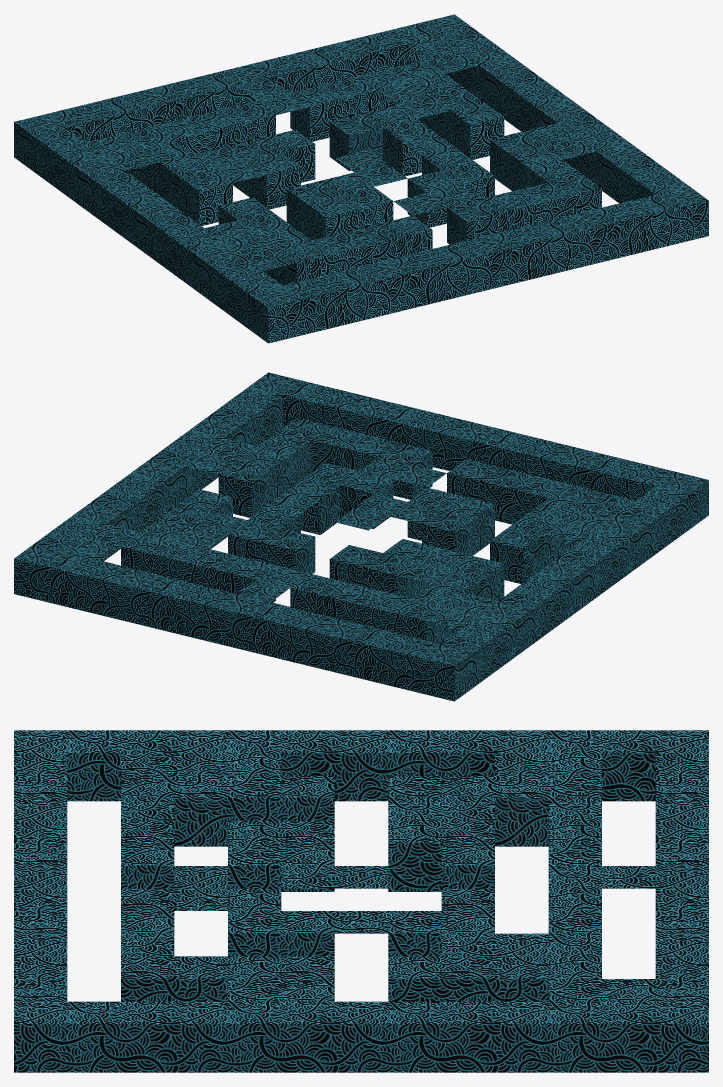
The model's file is FirstLevelPlatform.fbx.
3 views of the same model, one above another, from view 1: azimuth 30°, elevation 25°; view 2: azimuth 150°, elevation 25°; view 3: azimuth 270°, elevation 25° (orthographic). The views are drawn at different scales.
Visible parts, largest first — view 1: FirstLevel, PanelFirstLevel; view 2: FirstLevel, PanelFirstLevel; view 3: FirstLevel, PanelFirstLevel.
Boxes of the visible parts, x1=… form: FirstLevel: x1=14, y1=14, x2=708, y2=343; PanelFirstLevel: x1=87, y1=37, x2=596, y2=270; FirstLevel: x1=14, y1=372, x2=708, y2=701; PanelFirstLevel: x1=68, y1=438, x2=635, y2=628; FirstLevel: x1=14, y1=730, x2=708, y2=1072; PanelFirstLevel: x1=121, y1=753, x2=655, y2=1001.
Bounding box in the file's own units: 2600 × 200 × 2600.
